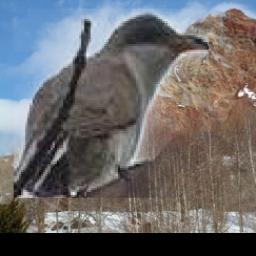Cuckoo: (15, 9, 210, 198)
